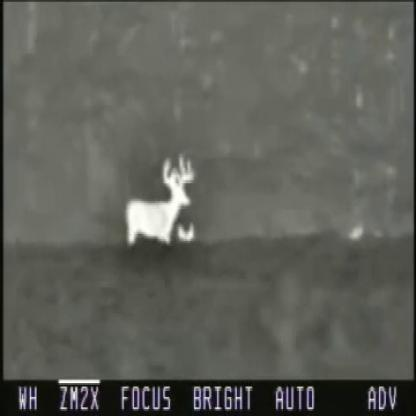rehkitze: (122, 150, 194, 241)
